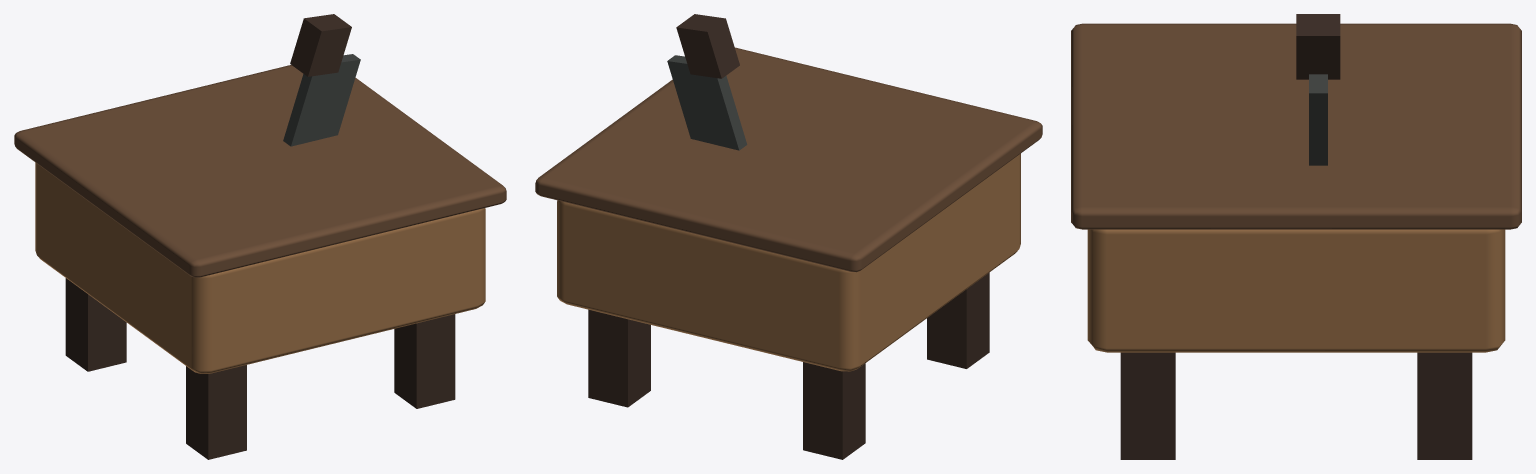
The model's file is butcher_block.glb.
The picture shows the model from 3 angles, left to right: view 1: azimuth 30°, elevation 25°; view 2: azimuth 150°, elevation 25°; view 3: azimuth 270°, elevation 25°; orthographic projection. The views are drawn at different scales.
Visible parts, largest first — view 1: butcher_block; view 2: butcher_block; view 3: butcher_block.
Part boxes in pixels (box(x1,y1,x2,y2)): butcher_block: box(14, 14, 506, 459); butcher_block: box(535, 14, 1042, 459); butcher_block: box(1071, 14, 1521, 459).
Size of the model in its own units: 0.9 by 0.9 by 0.9.
Materials: 1 (1 with a texture image).
